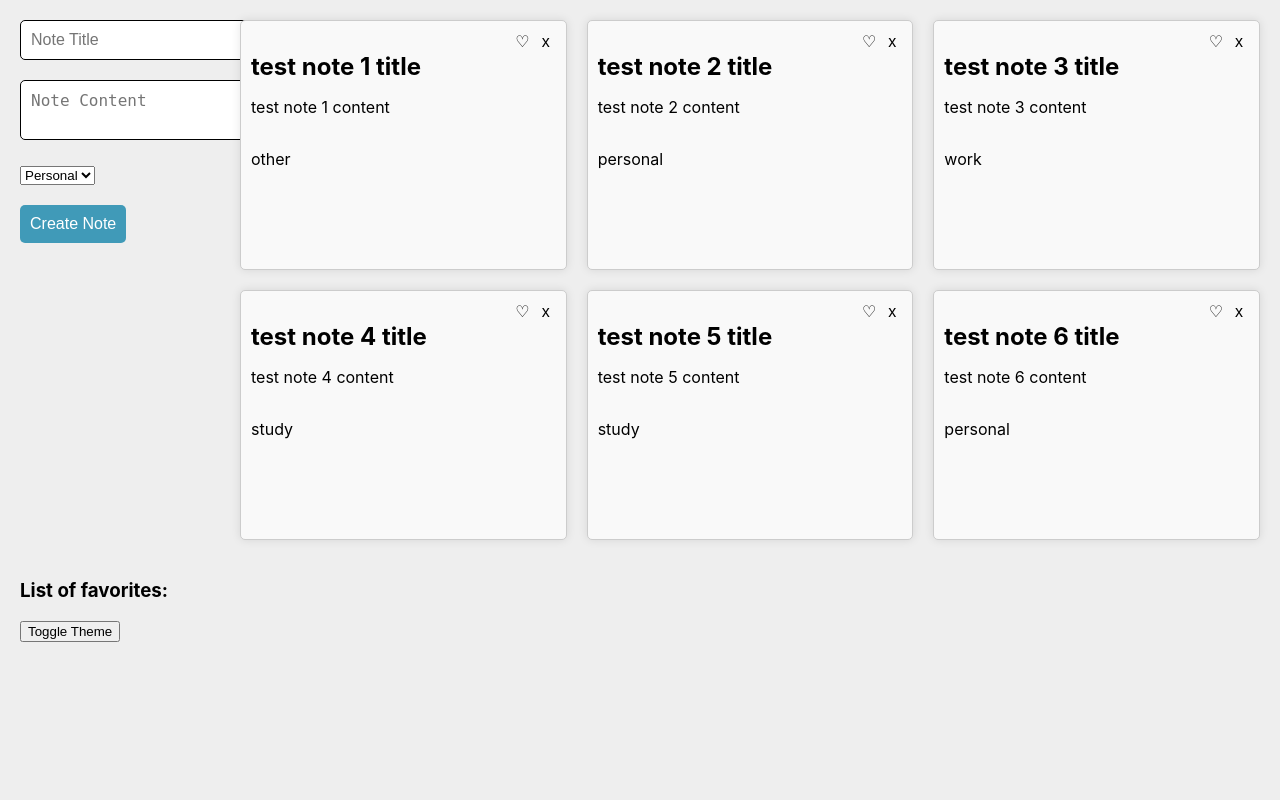
Delete StickyNote › delete the first note and check if it is removed
Click the 1st button "x" at (546, 42), box [536,31,556,52]
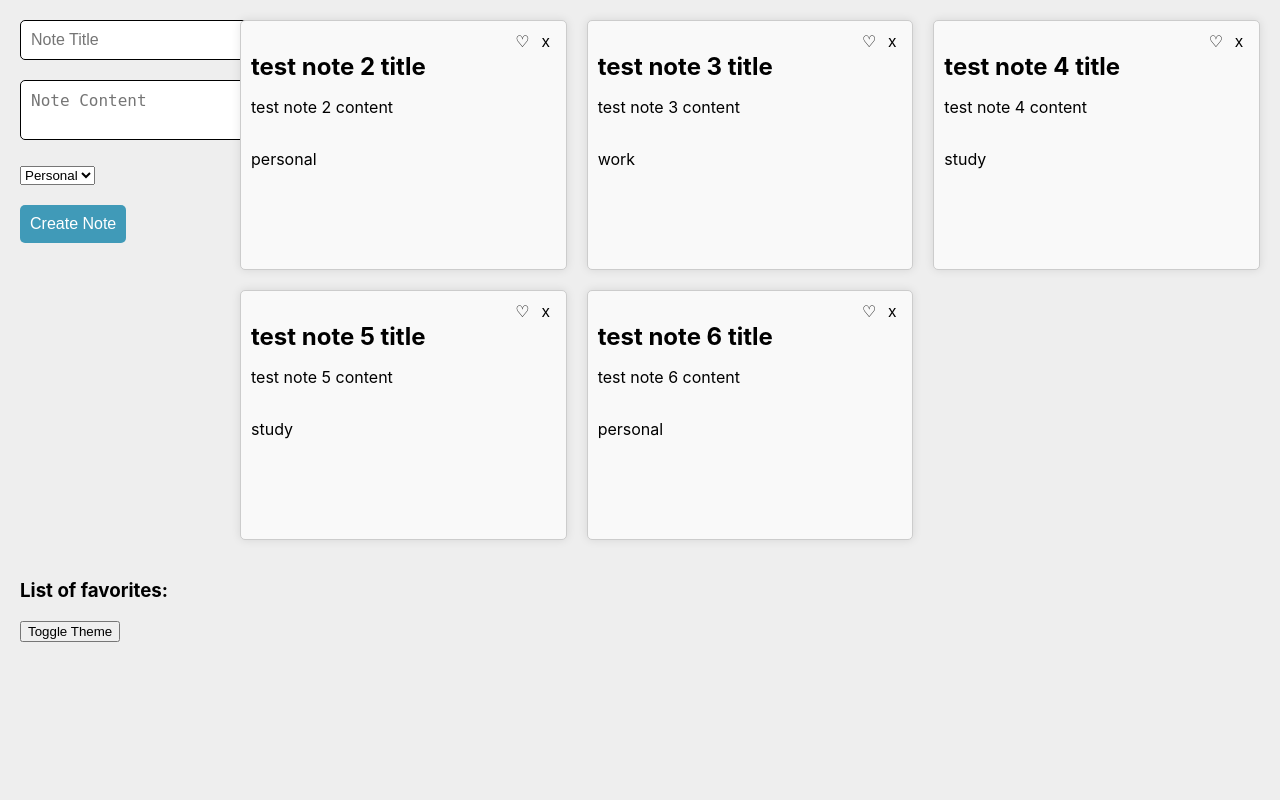
Result: the text box "other" is gone
